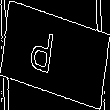P_S: (41, 27, 69, 83)
